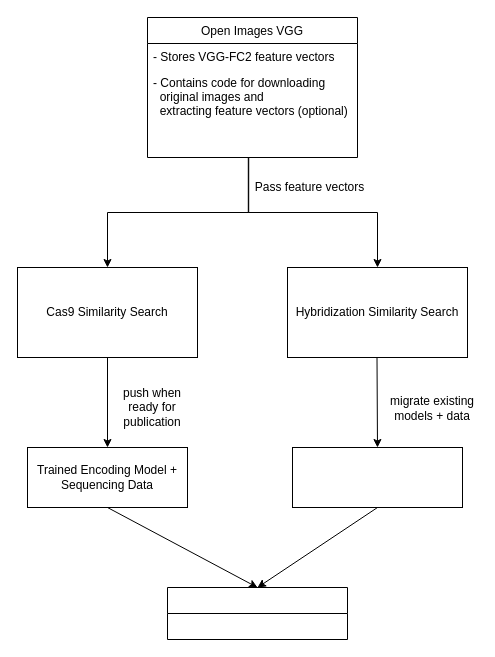
Image size: 495x657. Some labels were removed from this diagram. The shapes that lost their labels are listed below. From the top down, each one's centre as x and y in pixels, then its label:
At pixel 377 477: "Trained Hybridization Models + Sequencing Data".
At pixel 257 613: "Benchmarking & Analysis".
